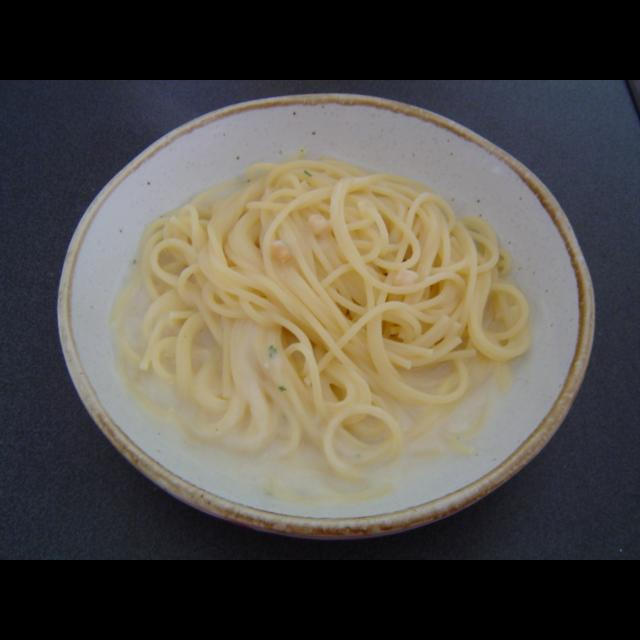noodles: (110, 155, 533, 507)
